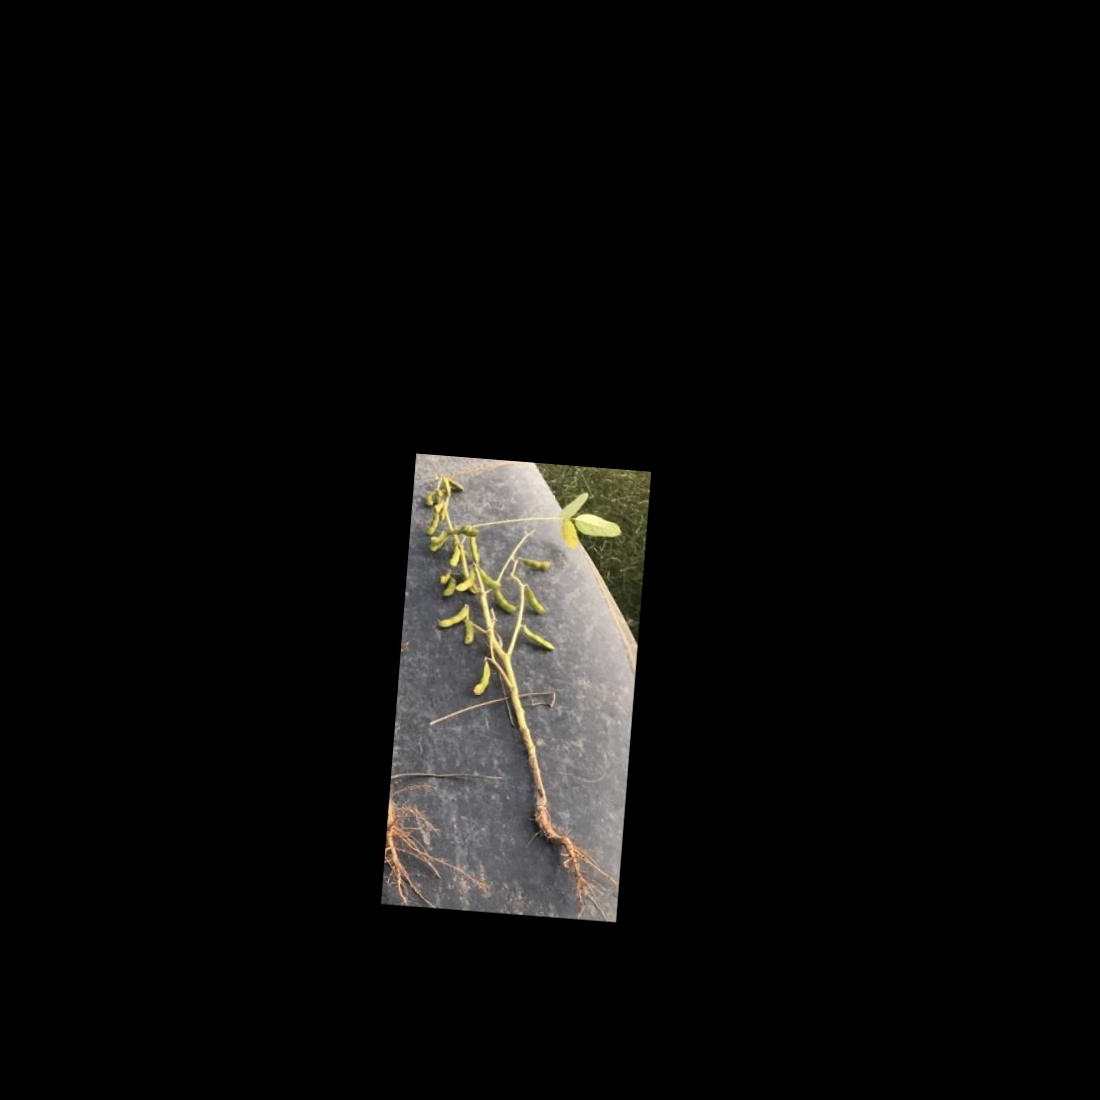pod: (464, 654, 494, 697), (522, 579, 551, 618), (519, 622, 558, 650), (515, 551, 558, 573), (490, 586, 521, 616), (435, 601, 467, 631), (473, 563, 507, 588), (465, 535, 485, 566), (445, 543, 463, 570), (461, 618, 477, 649), (421, 513, 439, 537)
soy: (393, 462, 629, 886)
